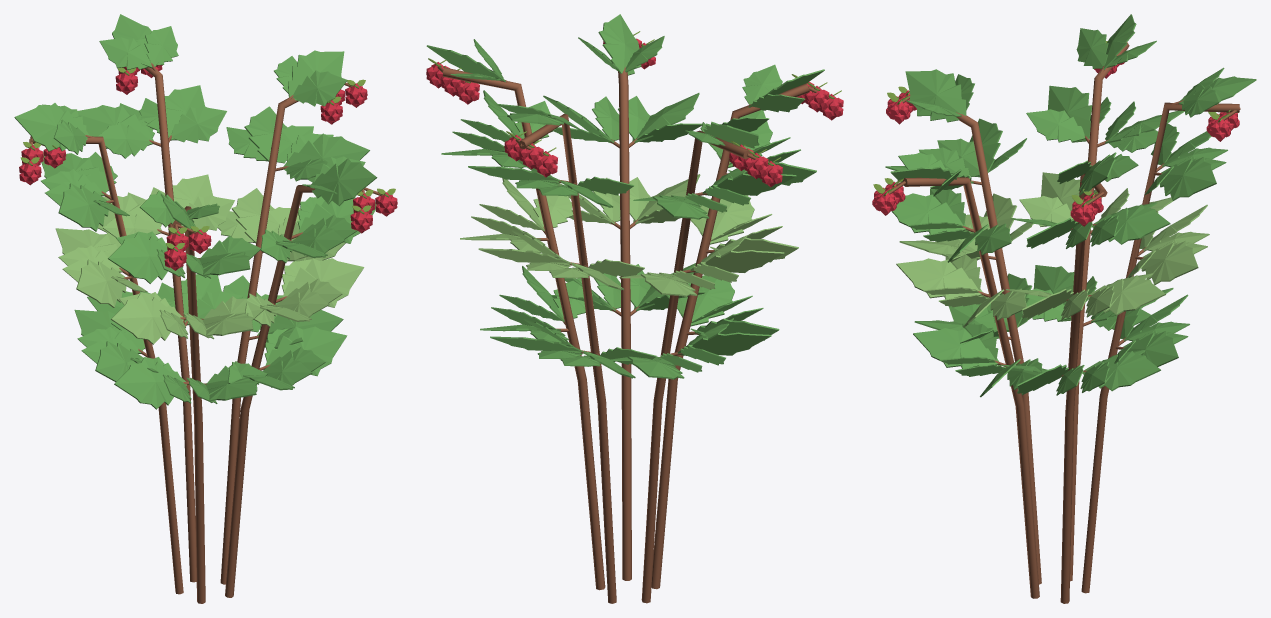
The model's file is bush_raspberry.glb.
3 views of the same model, side by side, from view 1: azimuth 30°, elevation 25°; view 2: azimuth 150°, elevation 25°; view 3: azimuth 270°, elevation 25° (orthographic). The views are drawn at different scales.
Visible parts, largest first — view 1: Raspberry upright cane 2, Raspberry upright cane 1, Raspberry upright cane 5, Raspberry upright cane 4, Raspberry upright cane 3, Raspberry compound leaf terminal leaf.020, Raspberry compound leaf terminal leaf.018, Raspberry compound leaf terminal leaf.022, Raspberry terminal foliage terminal leaf.004, Raspberry compound leaf terminal leaf.027, Raspberry compound leaf terminal leaf.025, Raspberry terminal foliage terminal leaf.002 (+48 smaller); view 2: Raspberry upright cane 5, Raspberry upright cane 2, Raspberry upright cane 1, Raspberry upright cane 4, Raspberry upright cane 3, Raspberry terminal foliage terminal leaf.004, Raspberry compound leaf terminal leaf.019, Raspberry compound leaf terminal leaf.013, Raspberry compound leaf terminal leaf.015, Raspberry compound leaf terminal leaf.021, Raspberry compound leaf terminal leaf.028, Raspberry compound leaf terminal leaf.017 (+23 smaller); view 3: Raspberry upright cane 5, Raspberry upright cane 2, Raspberry upright cane 1, Raspberry upright cane 4, Raspberry upright cane 3, Raspberry terminal foliage terminal leaf.003, Raspberry compound leaf terminal leaf.026, Raspberry compound leaf terminal leaf.024, Raspberry compound leaf terminal leaf.028, Raspberry compound leaf terminal leaf.010, Raspberry compound leaf terminal leaf.008, Raspberry compound leaf terminal leaf.003 (+39 smaller).
Boxes of the visible parts, x1,y1,x2,y2 form: Raspberry upright cane 2: [144, 67, 196, 582]; Raspberry upright cane 1: [220, 98, 298, 584]; Raspberry upright cane 5: [225, 184, 314, 597]; Raspberry upright cane 4: [172, 206, 205, 603]; Raspberry upright cane 3: [30, 136, 183, 594]; Raspberry compound leaf terminal leaf.020: [111, 293, 183, 344]; Raspberry compound leaf terminal leaf.018: [114, 358, 186, 409]; Raspberry compound leaf terminal leaf.022: [108, 232, 167, 283]; Raspberry terminal foliage terminal leaf.004: [311, 158, 377, 206]; Raspberry compound leaf terminal leaf.027: [282, 258, 364, 307]; Raspberry compound leaf terminal leaf.025: [265, 326, 347, 376]; Raspberry terminal foliage terminal leaf.002: [14, 103, 89, 151]; Raspberry upright cane 5: [618, 67, 631, 580]; Raspberry upright cane 2: [518, 113, 616, 603]; Raspberry upright cane 1: [443, 67, 605, 590]; Raspberry upright cane 4: [651, 83, 809, 589]; Raspberry upright cane 3: [641, 130, 750, 603]; Raspberry terminal foliage terminal leaf.004: [598, 14, 641, 75]; Raspberry compound leaf terminal leaf.019: [679, 275, 734, 326]; Raspberry compound leaf terminal leaf.013: [677, 332, 771, 355]; Raspberry compound leaf terminal leaf.015: [690, 250, 784, 273]; Raspberry compound leaf terminal leaf.021: [700, 195, 754, 244]; Raspberry compound leaf terminal leaf.028: [632, 93, 699, 142]; Raspberry compound leaf terminal leaf.017: [702, 173, 796, 195]; Raspberry upright cane 5: [902, 177, 1039, 598]; Raspberry upright cane 2: [1081, 102, 1239, 593]; Raspberry upright cane 1: [1060, 173, 1107, 603]; Raspberry upright cane 4: [956, 112, 1041, 584]; Raspberry upright cane 3: [1070, 42, 1129, 581]; Raspberry terminal foliage terminal leaf.003: [905, 69, 966, 122]; Raspberry compound leaf terminal leaf.026: [896, 258, 982, 299]; Raspberry compound leaf terminal leaf.024: [913, 328, 999, 368]; Raspberry compound leaf terminal leaf.028: [891, 193, 966, 234]; Raspberry compound leaf terminal leaf.010: [1159, 157, 1216, 200]; Raspberry compound leaf terminal leaf.008: [1140, 241, 1198, 284]; Raspberry compound leaf terminal leaf.003: [1087, 275, 1165, 315].
Bounding box in the file's own units: 0.8808 × 1.26 × 0.8475.
